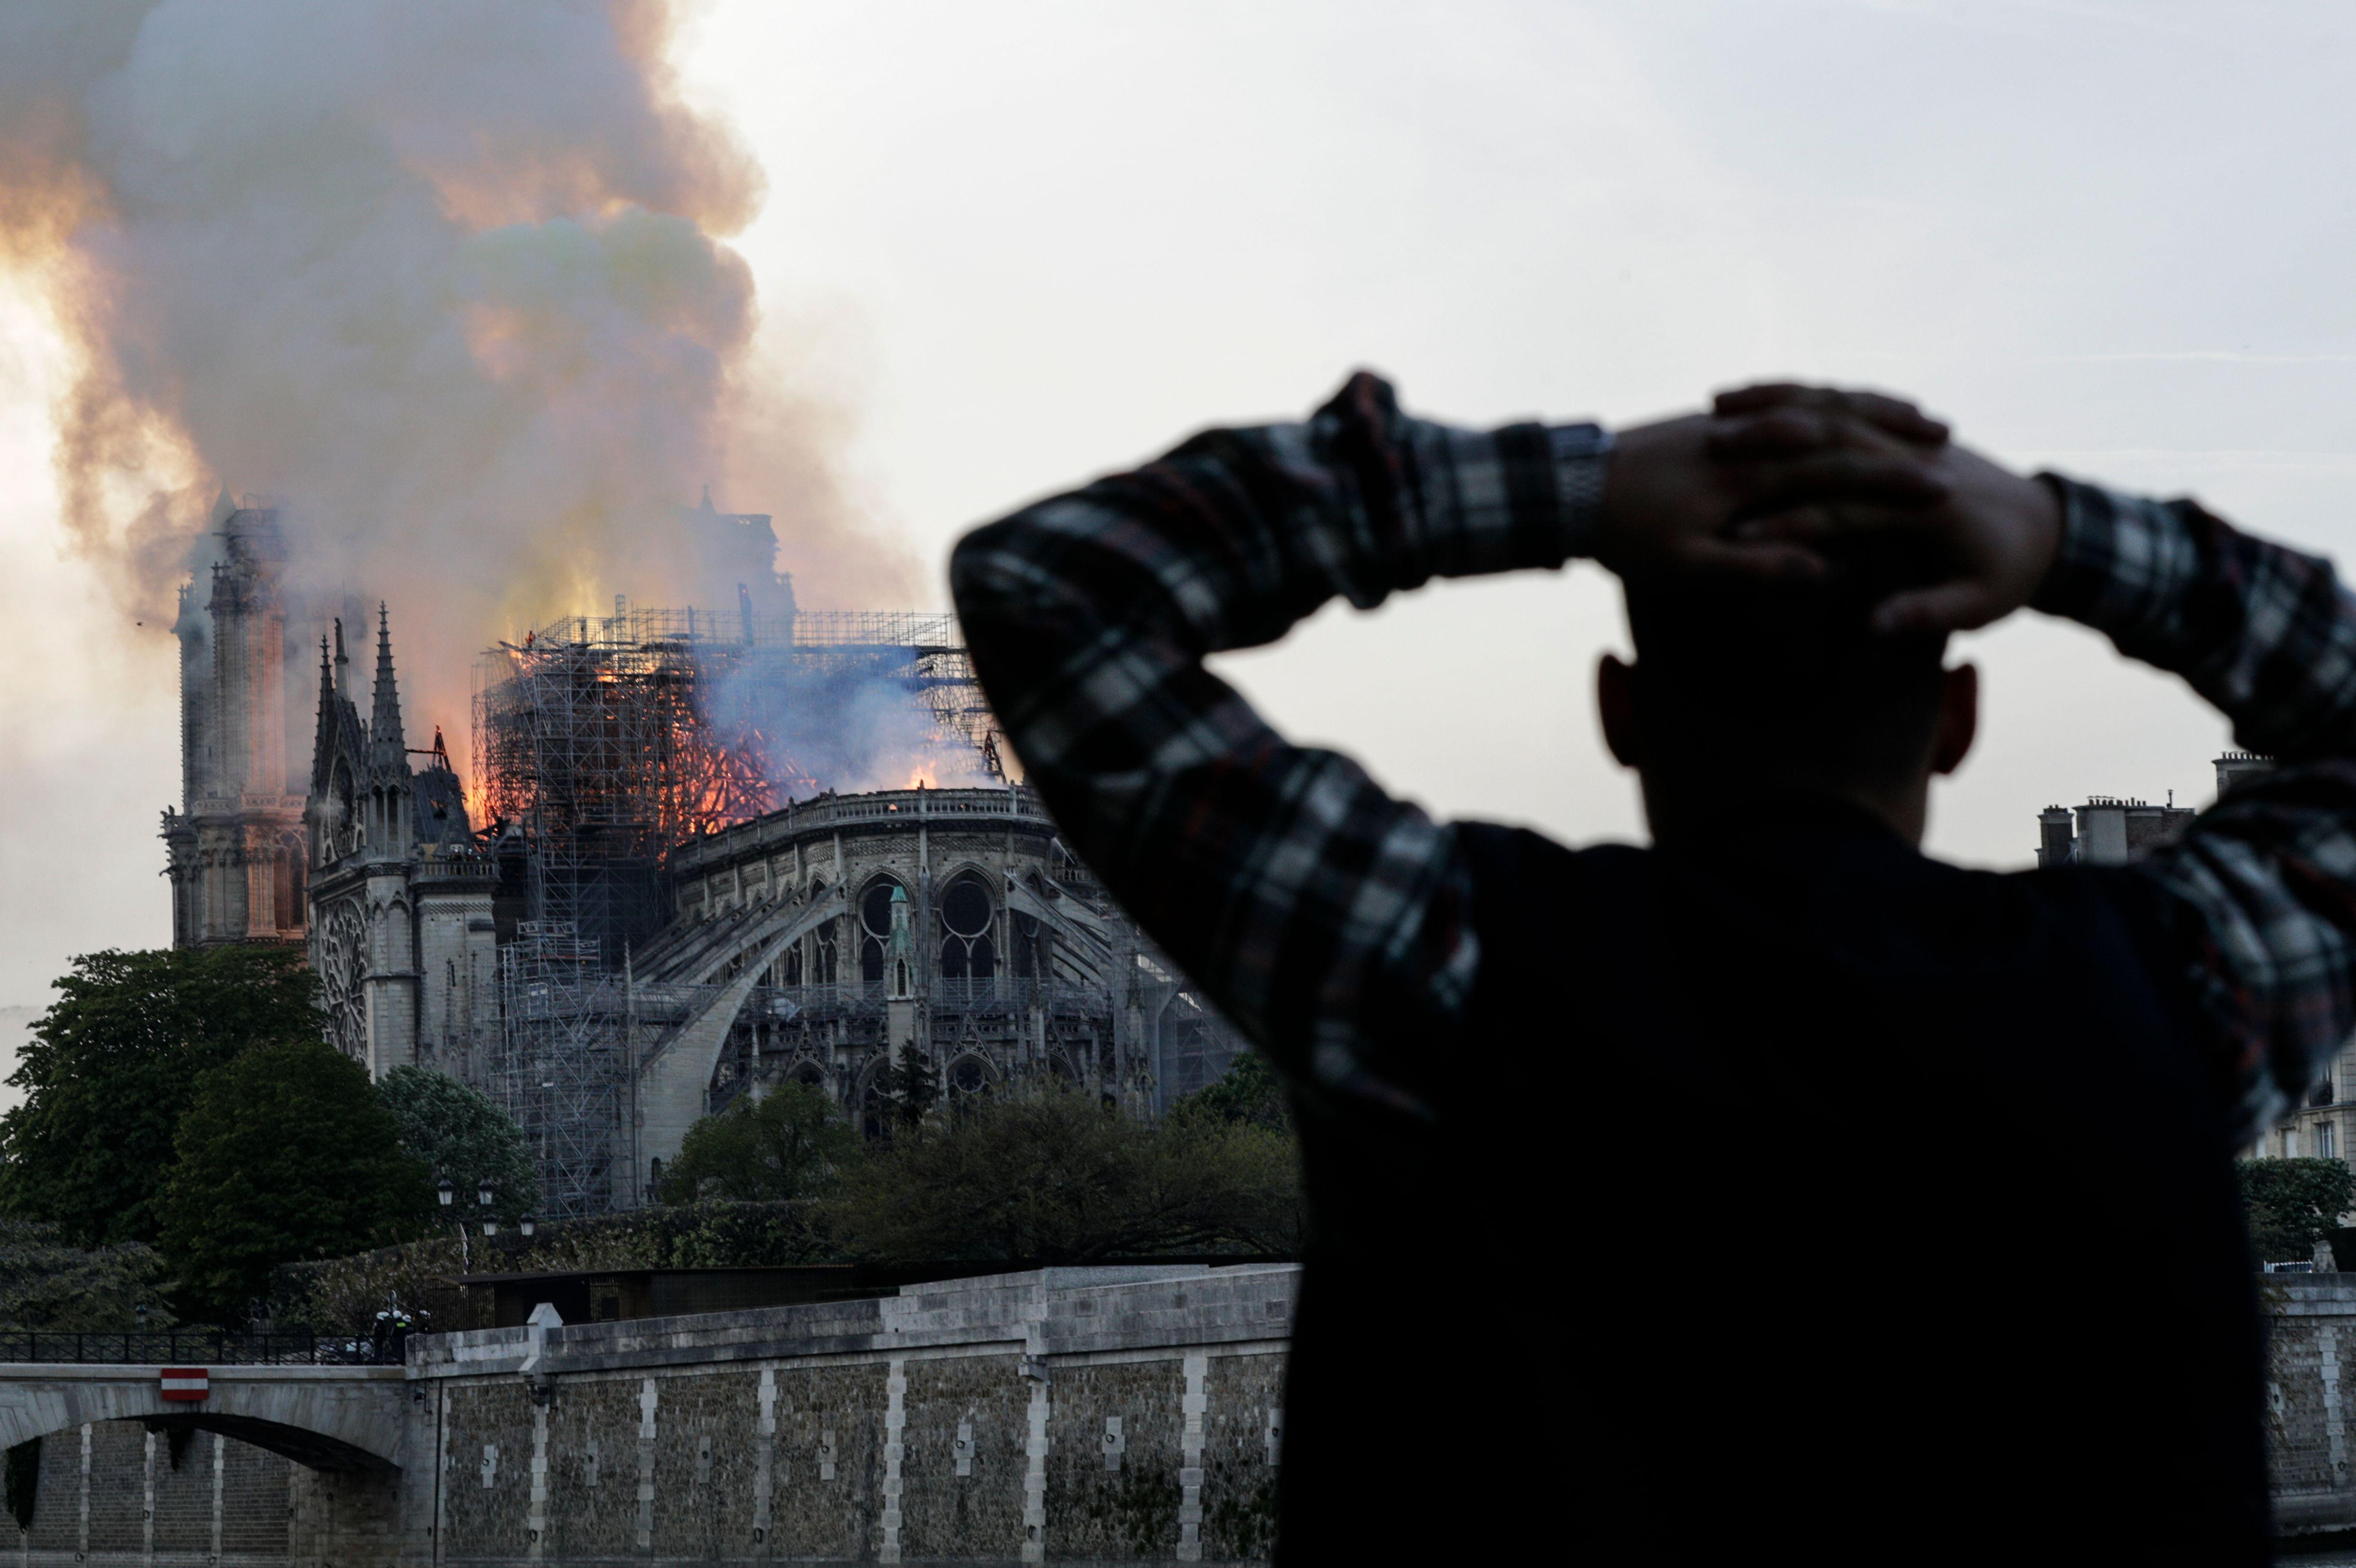Fire: (350, 539, 974, 838)
